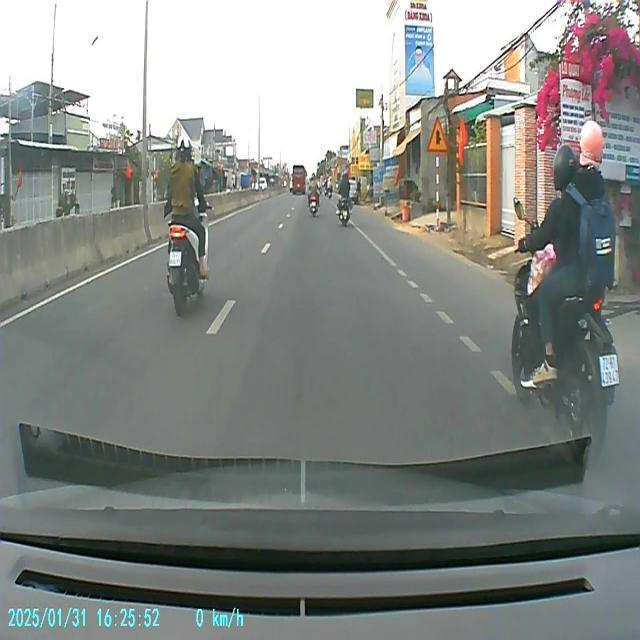207-giao-nhau-voi-duong-khong-uu-tien: (426, 118, 449, 154)
